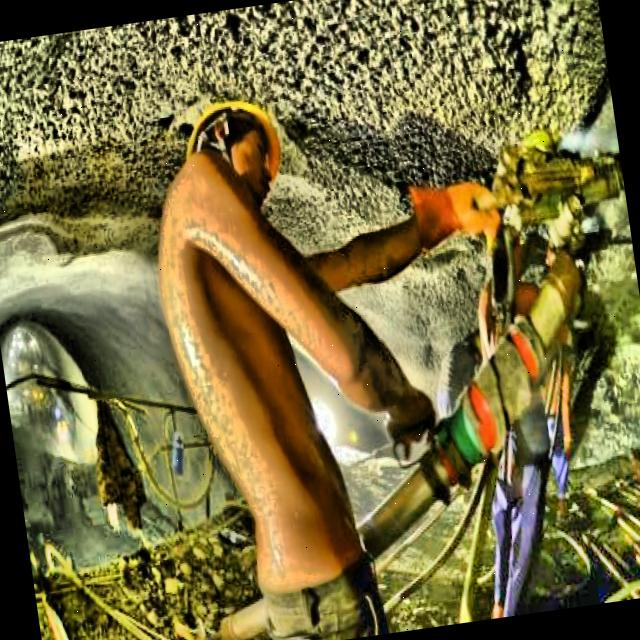helmet: (169, 74, 315, 202)
